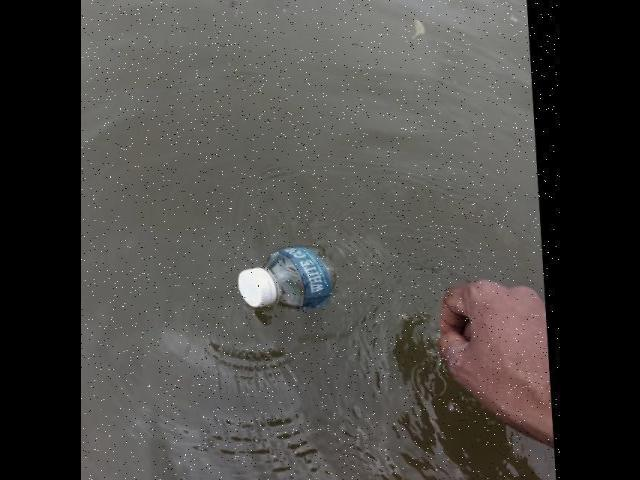Bottle: (227, 238, 343, 316)
